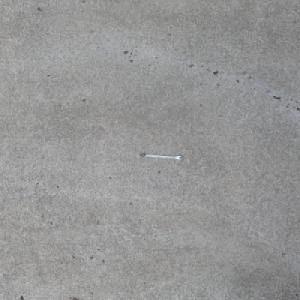Wrench: (137, 153, 183, 160)
